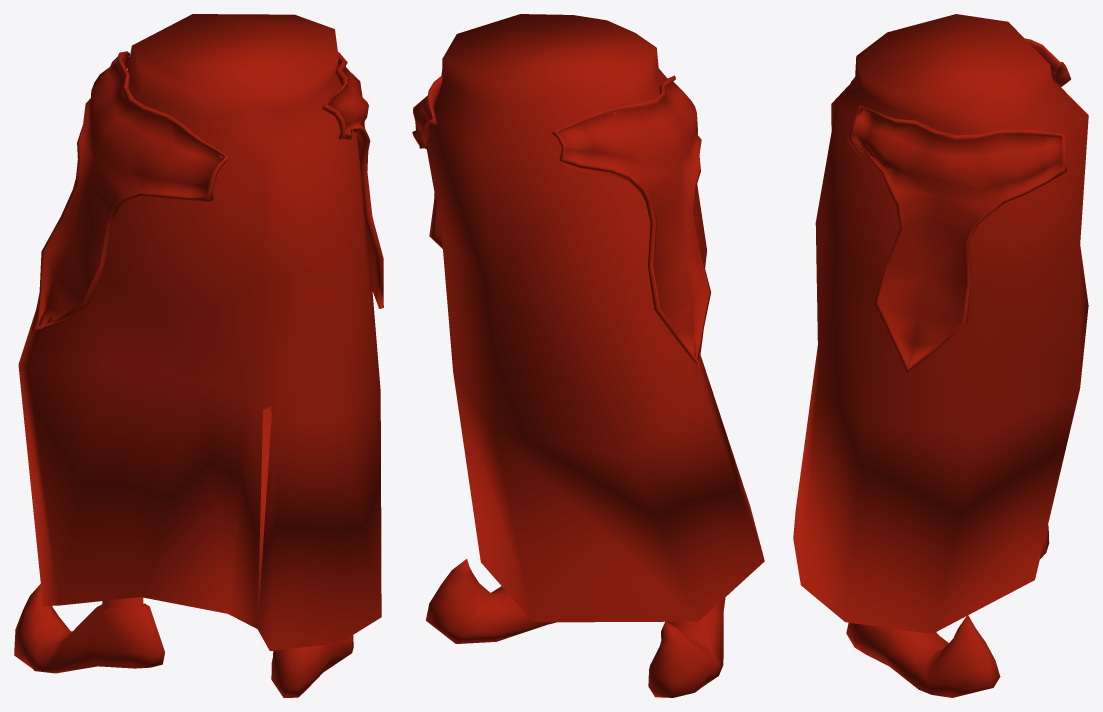
The model's file is bot_000021.obj.
The picture shows the model from 3 angles, left to right: view 1: azimuth 30°, elevation 25°; view 2: azimuth 150°, elevation 25°; view 3: azimuth 270°, elevation 25°; orthographic projection. The views are drawn at different scales.
Visible parts, largest first — view 1: LowPoly_Warlock.004_Plane.004; view 2: LowPoly_Warlock.004_Plane.004; view 3: LowPoly_Warlock.004_Plane.004.
Part boxes in pixels (left/top/right/bottom): LowPoly_Warlock.004_Plane.004: left=14, top=14, right=383, bottom=697; LowPoly_Warlock.004_Plane.004: left=412, top=14, right=764, bottom=697; LowPoly_Warlock.004_Plane.004: left=793, top=14, right=1088, bottom=697.
Size of the model in its own units: 0.6009 by 1.11 by 0.5019.
